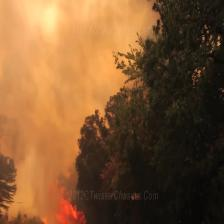fire: (35, 170, 94, 224)
